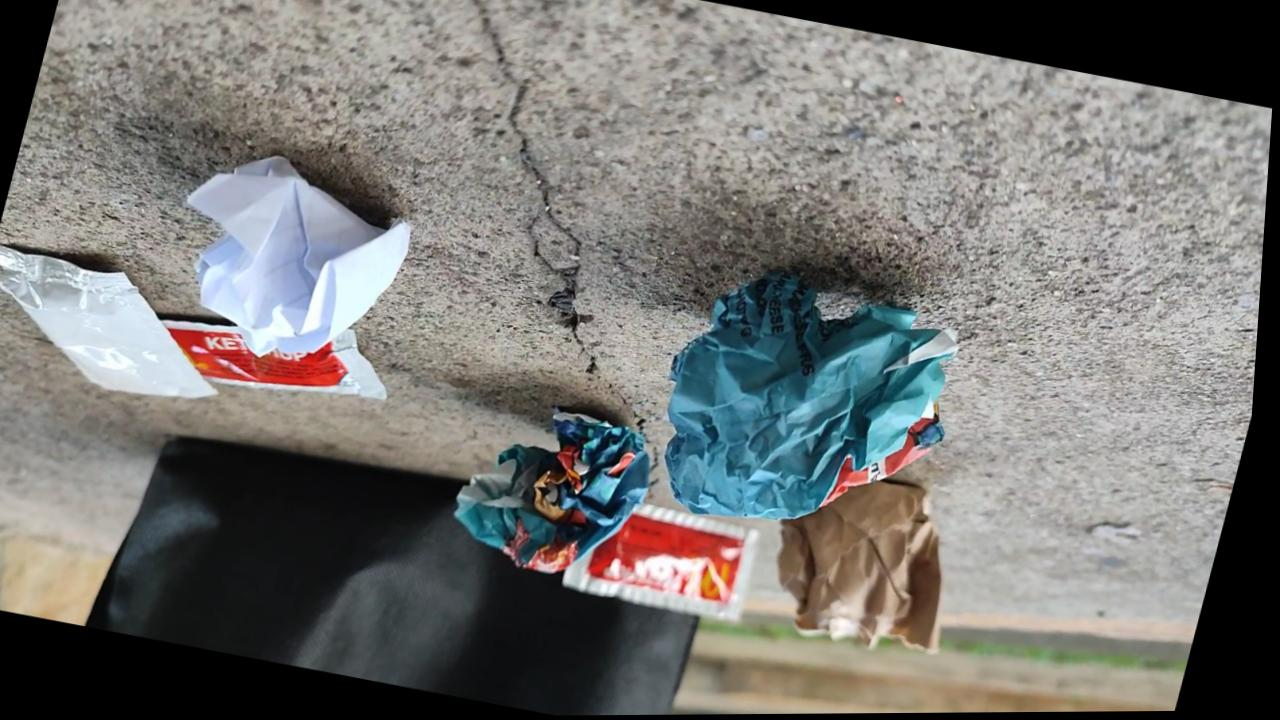paper: (666, 272, 957, 519), (169, 156, 409, 398), (455, 410, 648, 572), (778, 479, 941, 649)
